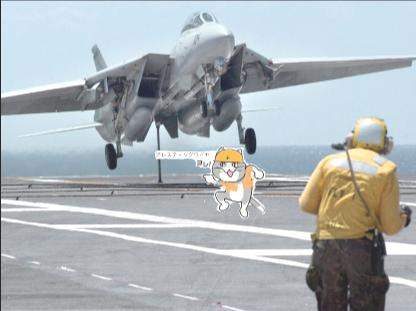EF2000: (1, 8, 415, 184)
